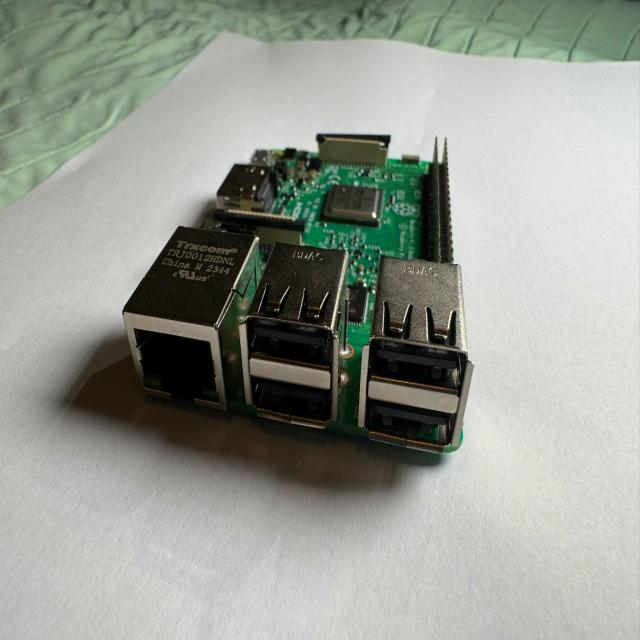CPU: (318, 184, 385, 230)
Ethernet: (123, 227, 267, 415)
GPIO: (426, 137, 457, 267)
HDMI: (215, 152, 283, 215)
Raspberry: (122, 134, 473, 460)
